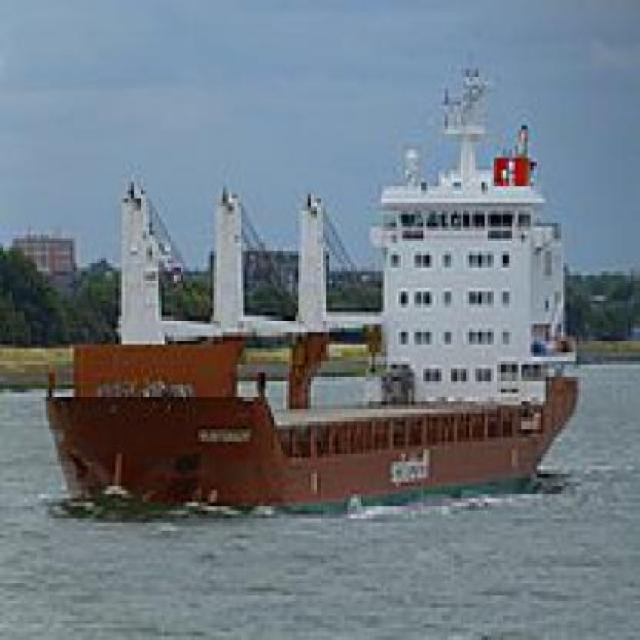container: (40, 62, 593, 523)
